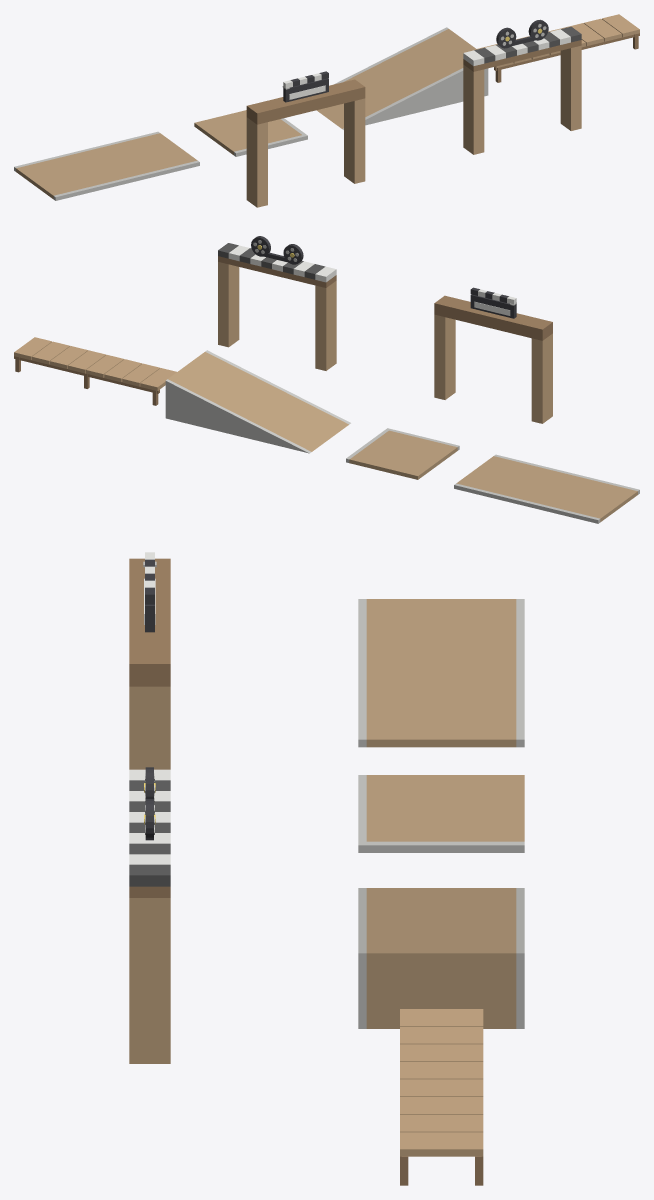
Rendered from course_kit.glb.
3 renders of one model, top to bottom at view 1: azimuth 30°, elevation 25°; view 2: azimuth 150°, elevation 25°; view 3: azimuth 270°, elevation 25°, orthographic. The views are drawn at different scales.
Visible parts, largest first — view 1: SM_Course_Ramp, SM_Course_GateStart, SM_Course_Straight, SM_Course_GateFinish, SM_Course_Corner90, SM_Course_PlankBridge; view 2: SM_Course_Ramp, SM_Course_GateStart, SM_Course_Straight, SM_Course_GateFinish, SM_Course_PlankBridge, SM_Course_Corner90; view 3: SM_Course_Straight, SM_Course_Ramp, SM_Course_Corner90, SM_Course_PlankBridge, SM_Course_GateFinish, SM_Course_GateStart.
Boxes of the visible parts, box(x1,y1,x2,y2) form: SM_Course_Ramp: box(317, 27, 488, 129); SM_Course_GateStart: box(246, 71, 365, 207); SM_Course_Straight: box(14, 131, 199, 200); SM_Course_GateFinish: box(463, 19, 581, 154); SM_Course_Corner90: box(194, 110, 307, 156); SM_Course_PlankBridge: box(477, 14, 639, 82); SM_Course_Ramp: box(165, 350, 350, 453); SM_Course_GateStart: box(434, 287, 552, 423); SM_Course_Straight: box(454, 454, 639, 523); SM_Course_GateFinish: box(218, 236, 336, 370); SM_Course_PlankBridge: box(14, 337, 176, 405); SM_Course_Corner90: box(346, 428, 459, 479); SM_Course_Straight: box(358, 599, 524, 747); SM_Course_Ramp: box(358, 888, 524, 1028); SM_Course_Corner90: box(358, 775, 524, 852); SM_Course_PlankBridge: box(400, 1009, 483, 1185); SM_Course_GateFinish: box(129, 767, 170, 1063); SM_Course_GateStart: box(129, 552, 170, 769).
Bounding box in the file's own units: 16.5 × 3 × 4.75.
